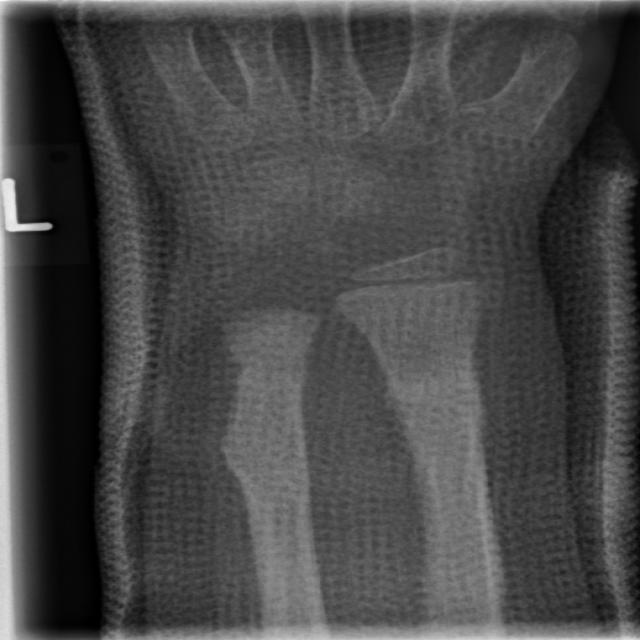radius fracture: (359, 342, 528, 492)
ulna fracture: (207, 388, 334, 532)
